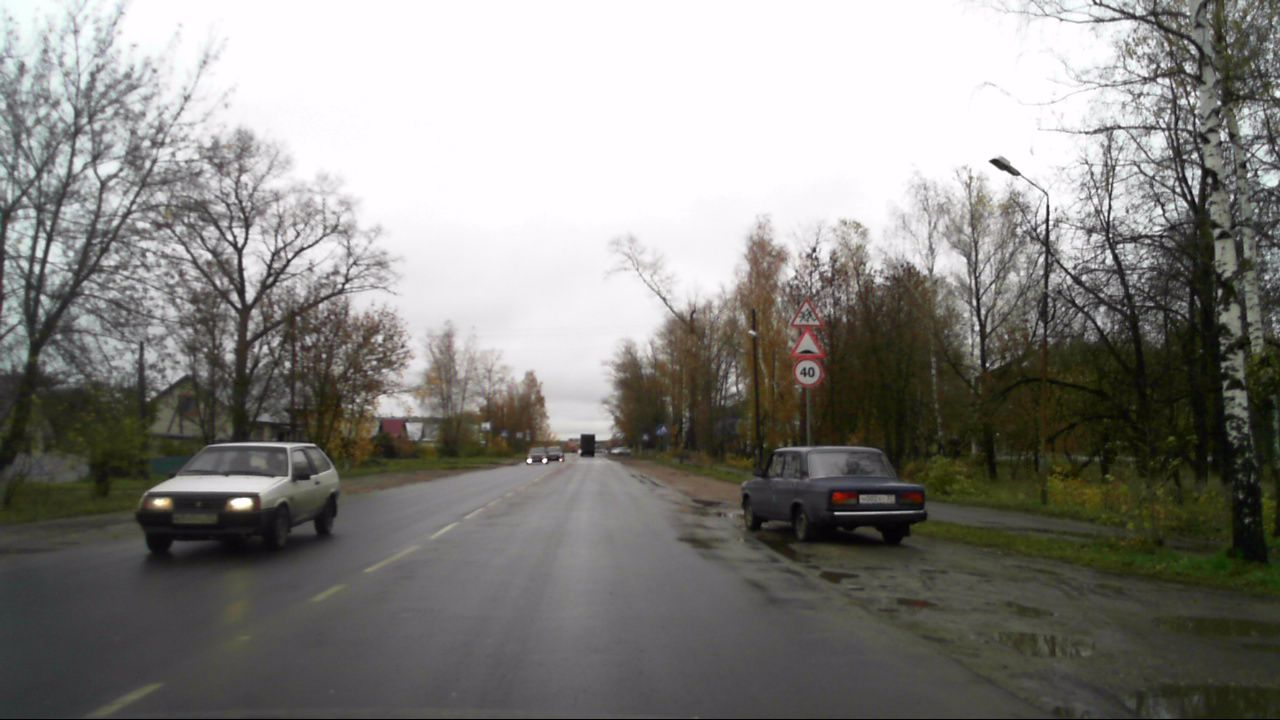speed_warning_40: (792, 357, 825, 386)
